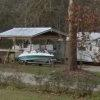Boat: (13, 46, 66, 67)
